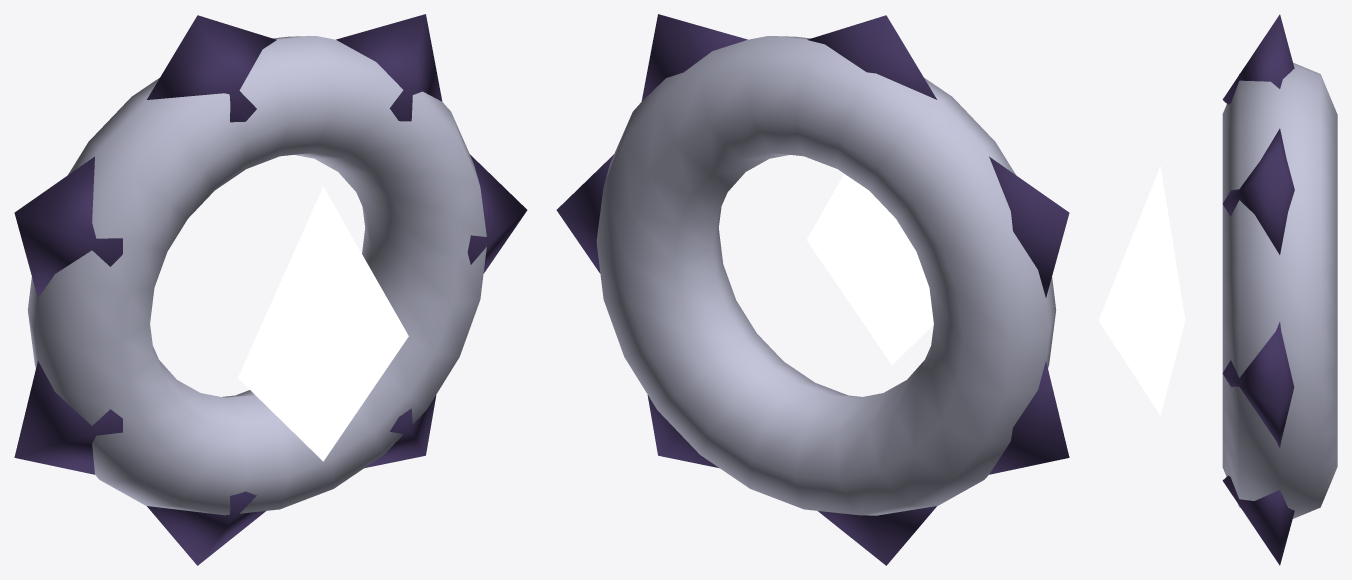
File: boss_eclipse_dancer_accessory_2.glb
3 views of the same model, side by side, from view 1: azimuth 30°, elevation 25°; view 2: azimuth 150°, elevation 25°; view 3: azimuth 270°, elevation 25° (orthographic). The views are drawn at different scales.
Parts seen in each view (by area): view 1: Boss_eclipse_dancer_1, Boss_eclipse_dancer_0, Boss_eclipse_dancer_2; view 2: Boss_eclipse_dancer_1, Boss_eclipse_dancer_0, Boss_eclipse_dancer_2; view 3: Boss_eclipse_dancer_1, Boss_eclipse_dancer_0, Boss_eclipse_dancer_2.
Boxes of the visible parts, bbox=[...] form: Boss_eclipse_dancer_1: bbox=[27, 36, 486, 515]; Boss_eclipse_dancer_0: bbox=[14, 14, 527, 565]; Boss_eclipse_dancer_2: bbox=[238, 186, 408, 461]; Boss_eclipse_dancer_1: bbox=[596, 36, 1056, 515]; Boss_eclipse_dancer_0: bbox=[556, 14, 1069, 565]; Boss_eclipse_dancer_2: bbox=[807, 174, 933, 364]; Boss_eclipse_dancer_1: bbox=[1222, 62, 1337, 518]; Boss_eclipse_dancer_0: bbox=[1222, 14, 1294, 565]; Boss_eclipse_dancer_2: bbox=[1098, 166, 1185, 415].
Size of the model in its own units: 0.1217 by 0.1248 by 0.054.
